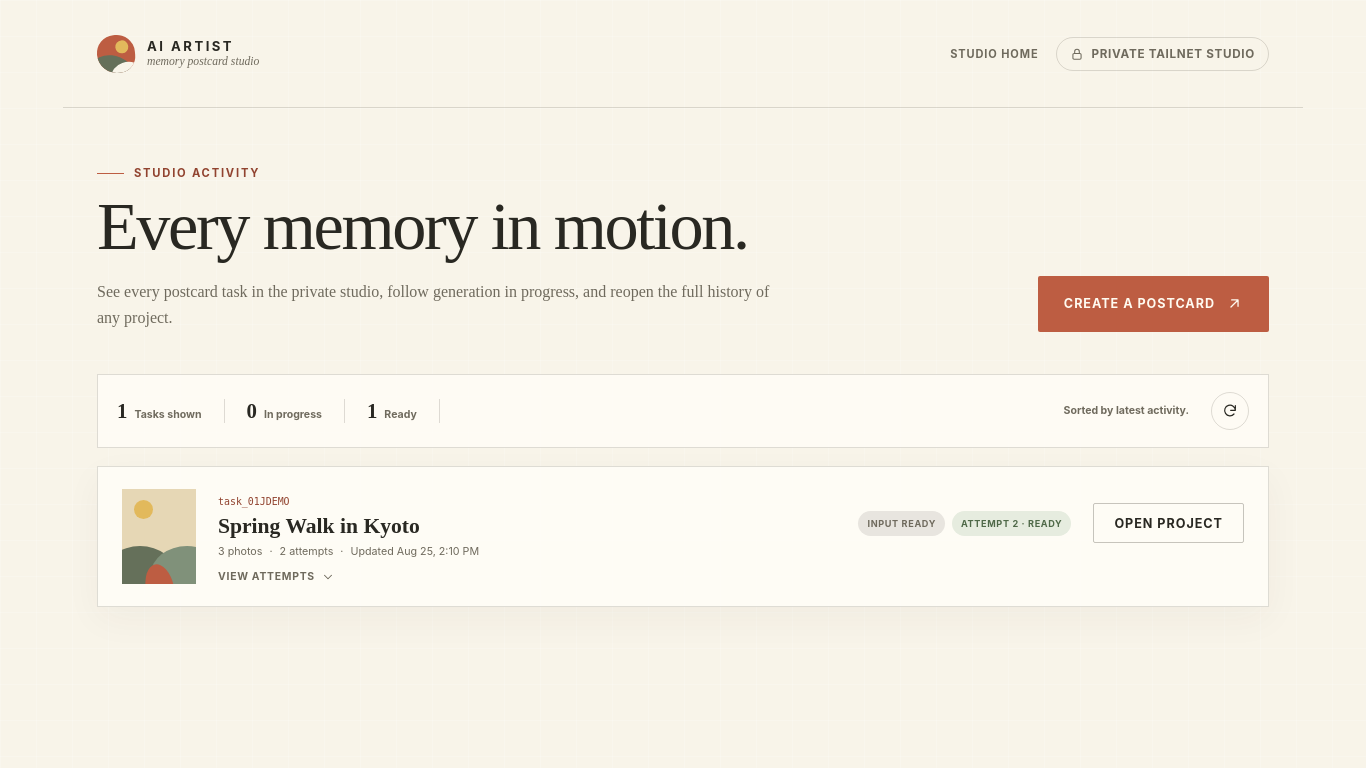
Scenario: ProjectCenter › shows every task summary and loads attempts only when expanded
Check: the heading "Spring Walk in Kyoto" is shown, box [218,514,420,538]
Check: the text "Attempt 2 · Ready" is shown, box [952,511,1071,536]
What coordinates should you click on to do the following:
click the button "View attempts"
I would click on:
 (276, 577)
Its box is [218,570,335,584].
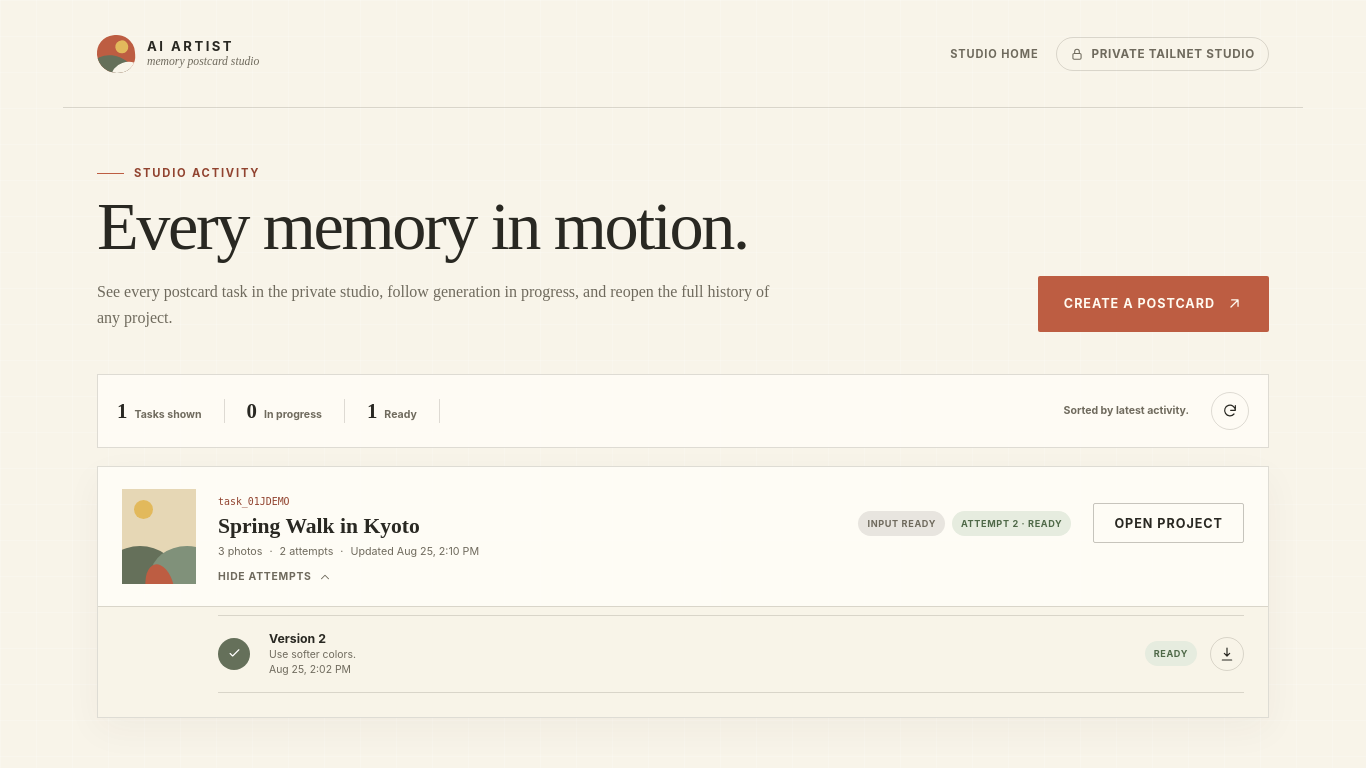
Check: the text "Version 2" is shown, box [269,631,326,646]
Check: the text "Use softer colors." is shown, box [269,648,356,661]
Check: the button named "Download Spring Walk in Kyoto version 2" is shown, box [1210,637,1244,671]
